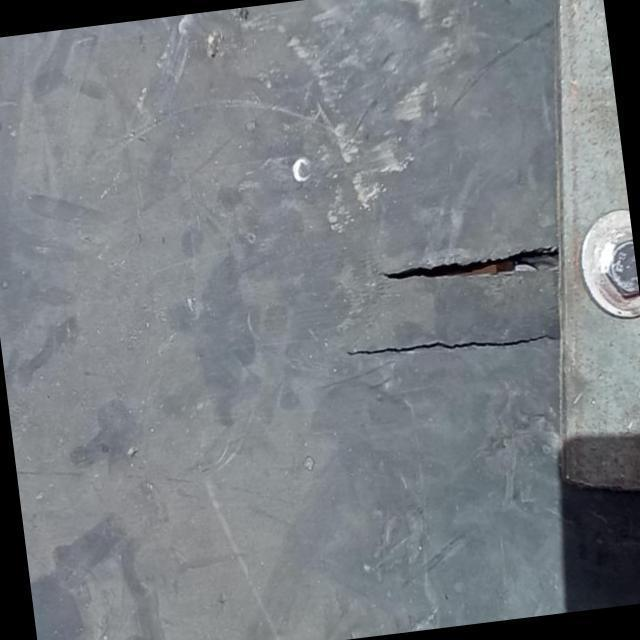Tear: (381, 230, 563, 298), (328, 322, 568, 369)
